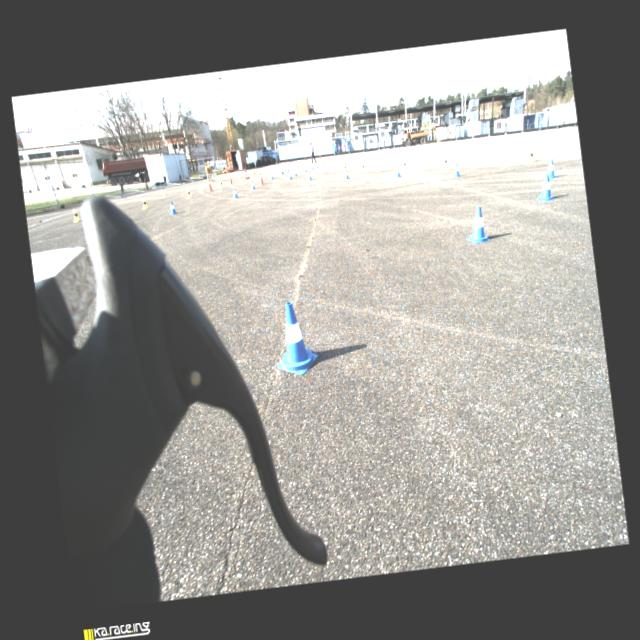blue_cone: (270, 299, 320, 376), (462, 205, 492, 243), (532, 172, 556, 201), (544, 158, 556, 178), (450, 162, 460, 177), (168, 200, 178, 214), (394, 165, 402, 177), (342, 168, 350, 180), (232, 186, 238, 198), (306, 170, 312, 180), (250, 180, 256, 188), (268, 172, 274, 179), (293, 168, 298, 176), (287, 171, 292, 179), (280, 166, 284, 174), (310, 162, 314, 170), (304, 165, 308, 172), (286, 166, 290, 172), (314, 162, 318, 168), (289, 164, 292, 170), (322, 161, 325, 166)
large_orange_cone: (257, 170, 264, 184), (205, 177, 212, 191)
orange_cone: (323, 160, 326, 166), (328, 158, 331, 164), (340, 156, 342, 162), (346, 156, 348, 162), (348, 156, 350, 162), (350, 156, 352, 162), (325, 159, 327, 164), (352, 156, 354, 160)
yellow_cone: (71, 208, 81, 222), (524, 148, 534, 162), (140, 197, 148, 209), (441, 156, 448, 168), (185, 188, 191, 198), (360, 162, 365, 172), (218, 180, 223, 188), (402, 159, 406, 169), (342, 164, 347, 172), (238, 174, 242, 181), (252, 170, 256, 177), (260, 168, 264, 174), (343, 158, 346, 166), (203, 162, 207, 168), (239, 173, 242, 180), (207, 160, 210, 167), (341, 161, 344, 167)
